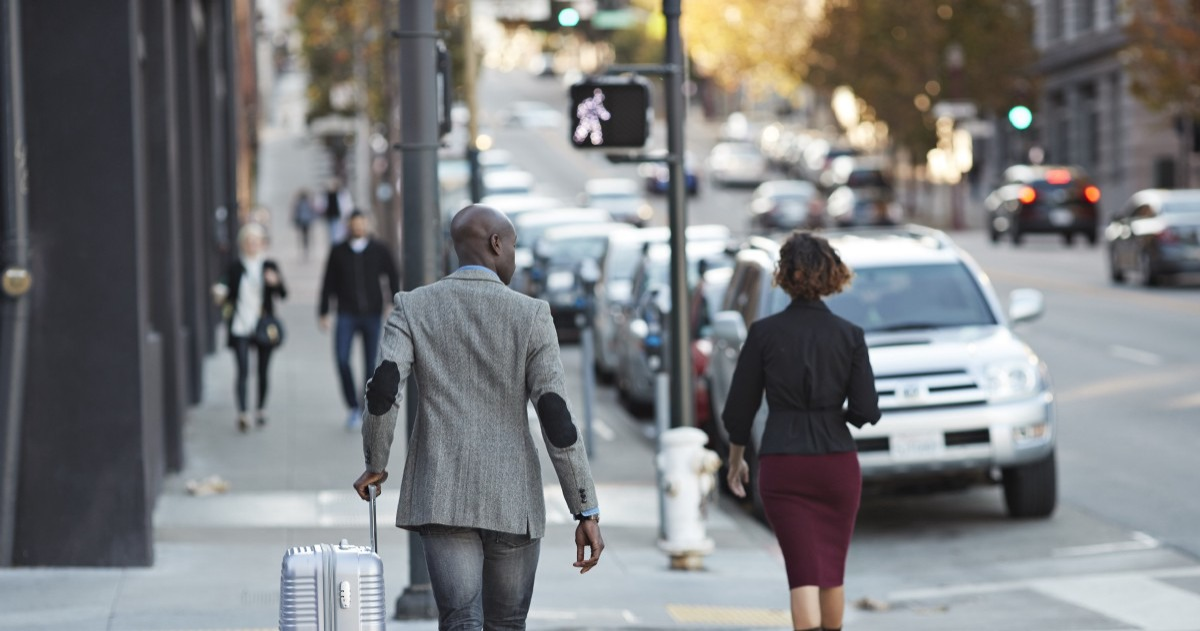pedestrian_walk: (568, 82, 648, 147)
